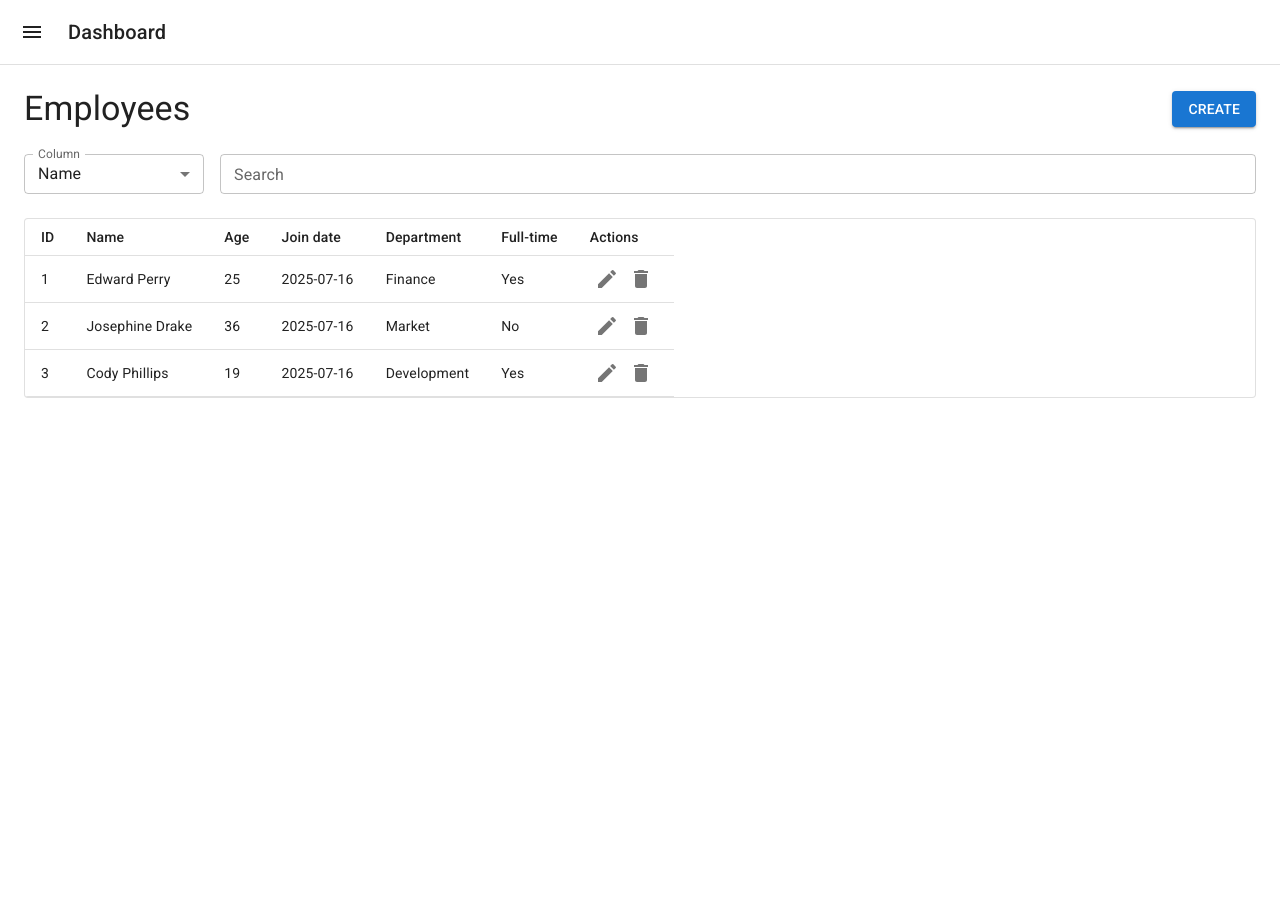
routes › 削除ボタンでは詳細へ遷移しない
The image size is (1280, 900).
Step 1. Click the button named "Delete Edward Perry" → (641, 279), box [624,262,658,296]
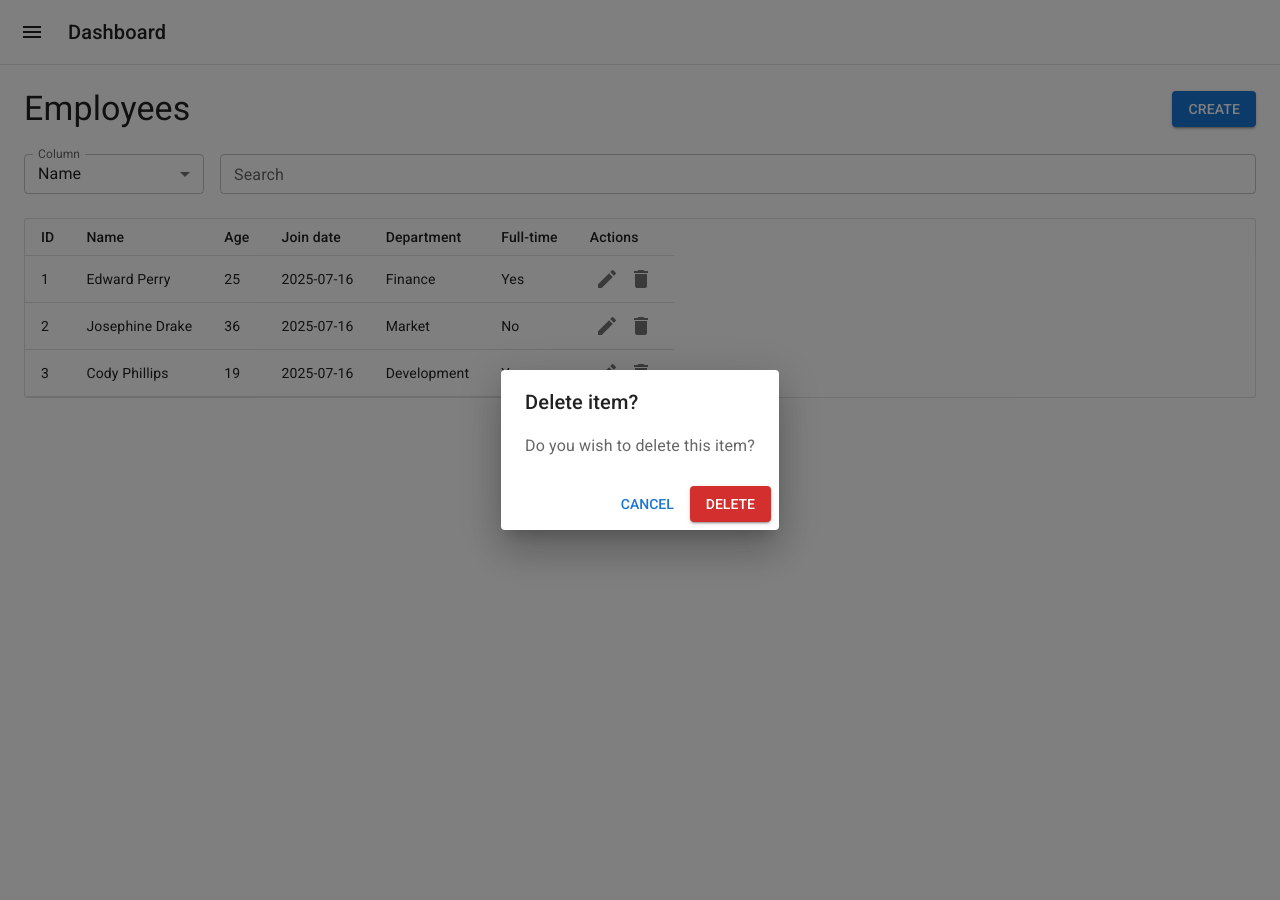
Now the dialog "Delete item?" is shown, box [501,370,779,530]
